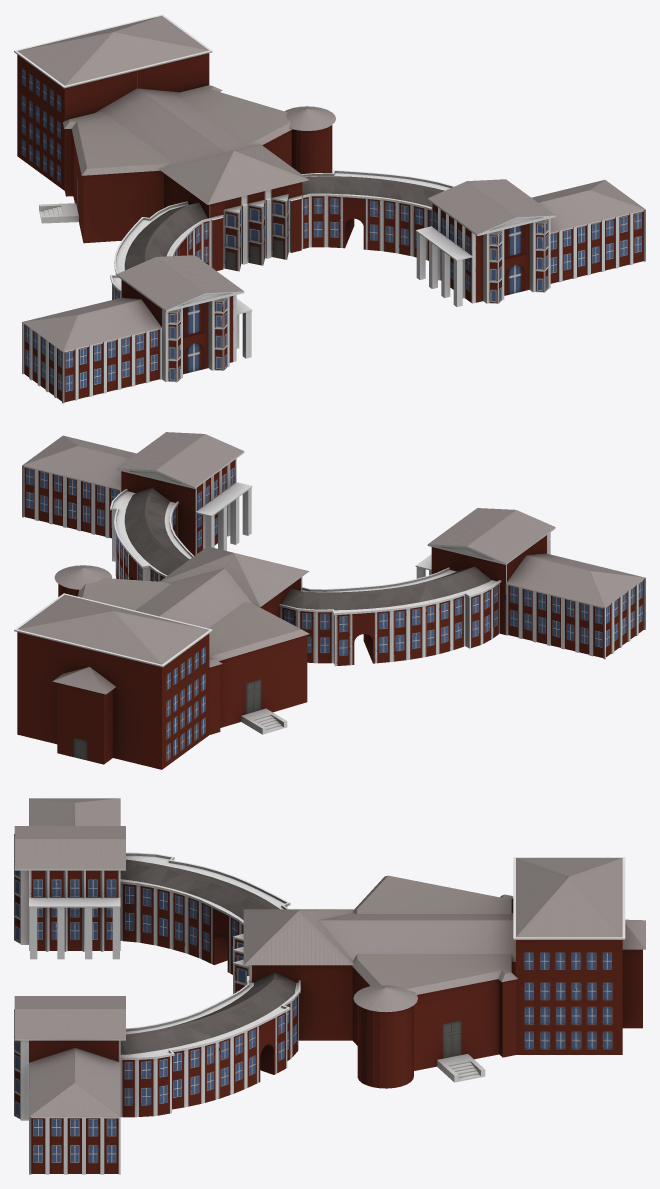
The picture shows the model from 3 angles, top to bottom: view 1: azimuth 30°, elevation 25°; view 2: azimuth 150°, elevation 25°; view 3: azimuth 270°, elevation 25°; orthographic projection. The views are drawn at different scales.
Parts seen in each view (by area): view 1: palacepratsi; view 2: palacepratsi; view 3: palacepratsi.
Boxes of the visible parts, <box> form: palacepratsi: <box>14,14,645,403</box>; palacepratsi: <box>14,432,645,769</box>; palacepratsi: <box>14,798,645,1174</box>.
Bounding box in the file's own units: 155 × 31.42 × 130.
5 materials, 5 textured.
